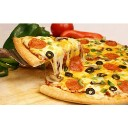pepperonipizza: (13, 35, 128, 104)
